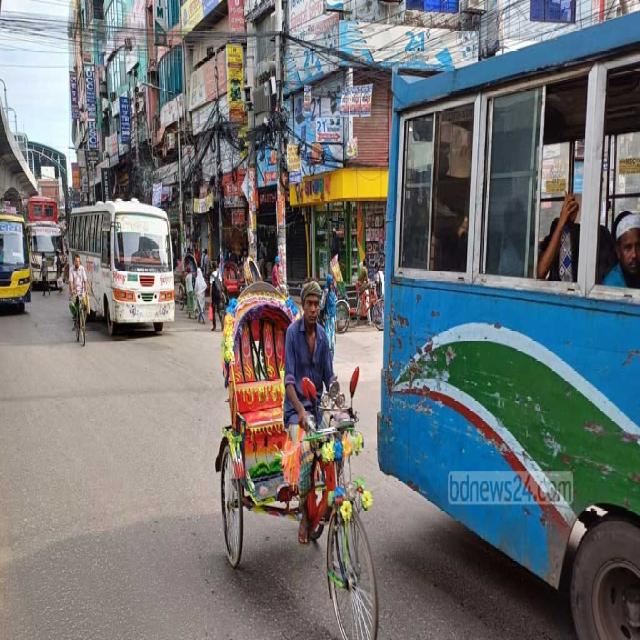Bicycle: (67, 271, 101, 367)
Bus: (368, 69, 640, 640), (65, 192, 180, 368), (1, 182, 42, 336), (20, 205, 77, 302)
Rickshaw: (194, 255, 395, 636), (240, 249, 314, 336), (323, 252, 394, 335), (215, 241, 256, 329)
